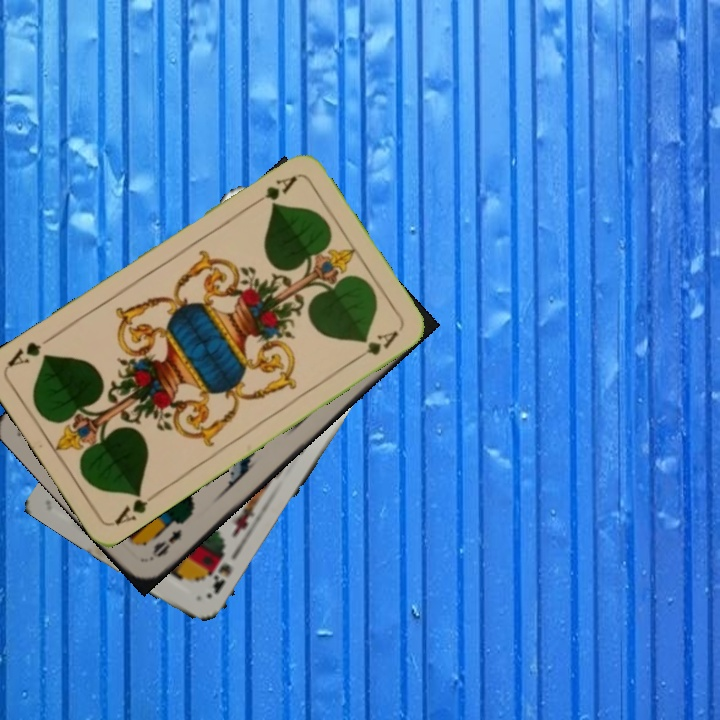EO: (147, 525, 185, 560)
GA: (109, 486, 162, 528), (247, 171, 300, 209)
SK: (208, 559, 235, 597)
